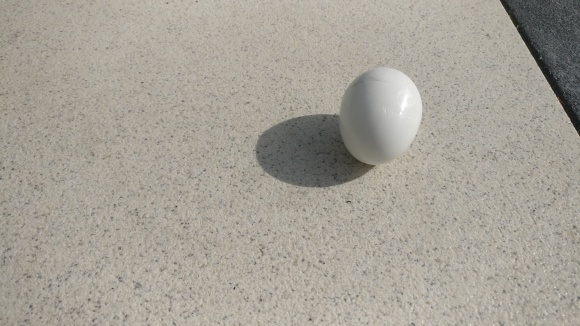egg: (337, 67, 423, 167)
